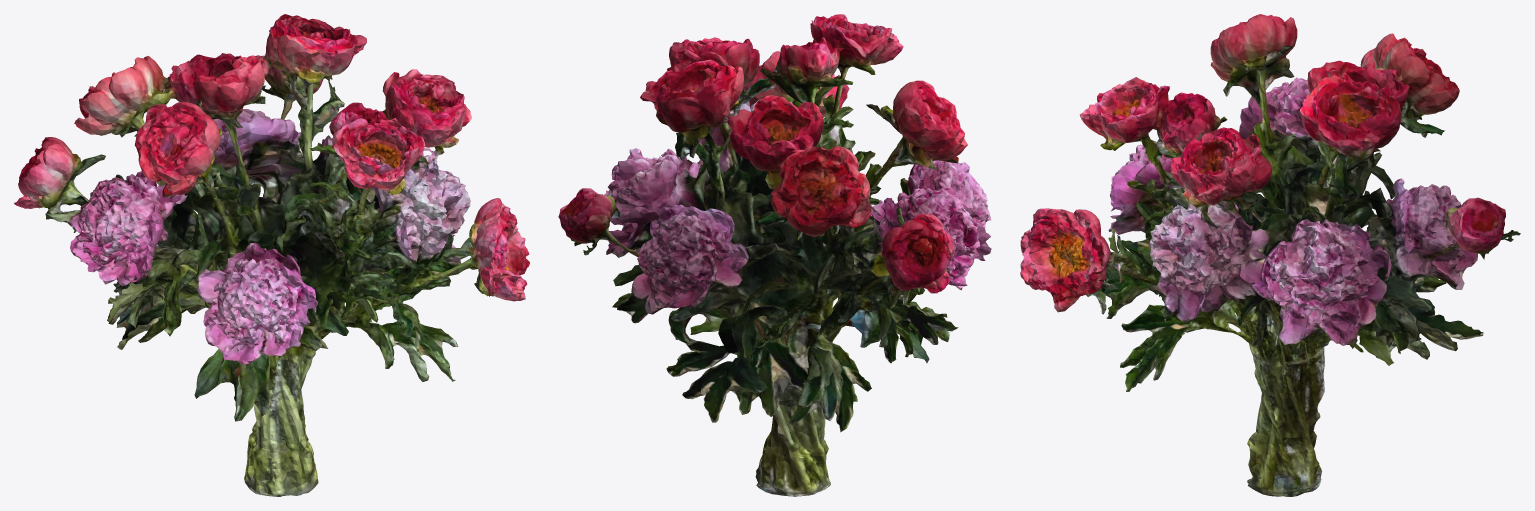
File: peonies.glb
The picture shows the model from 3 angles, left to right: view 1: azimuth 30°, elevation 25°; view 2: azimuth 150°, elevation 25°; view 3: azimuth 270°, elevation 25°; orthographic projection.
Size of the model in its own units: 0.5532 by 0.5922 by 0.6375.
Materials: 1 (1 with a texture image).
